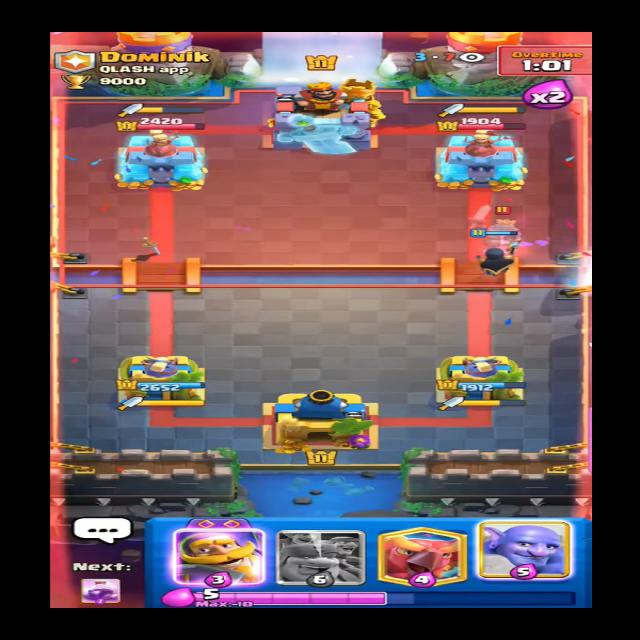royal-ghost: (465, 203, 538, 249)
